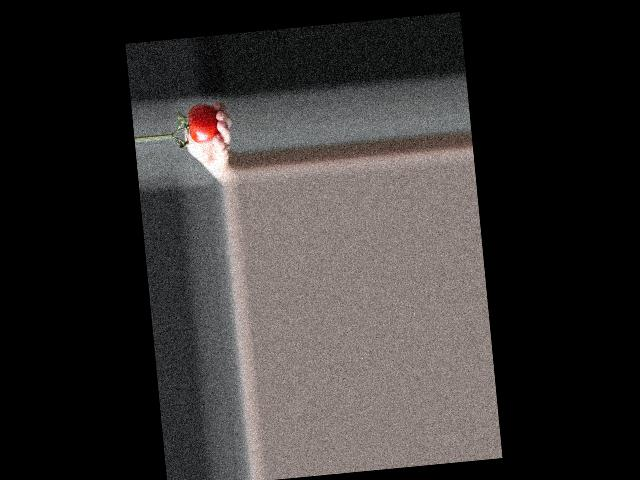tomato: (185, 102, 220, 144)
